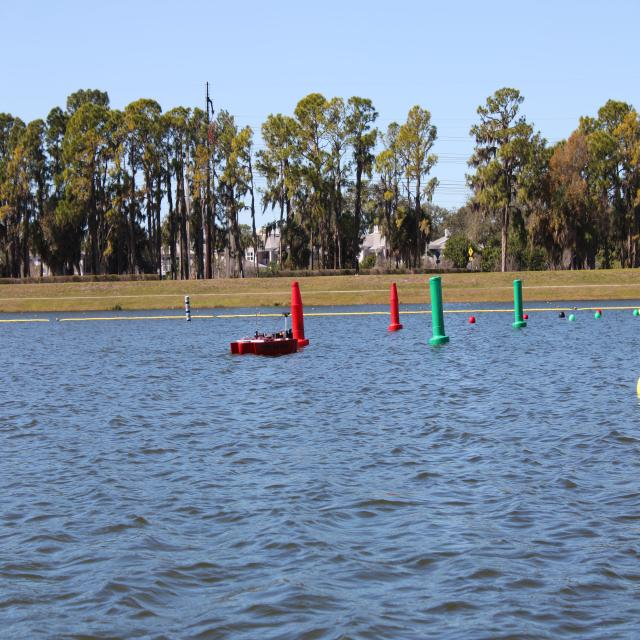green-buoy: (569, 315, 575, 322), (595, 313, 601, 320), (634, 310, 639, 317)
green-column-buoy: (429, 275, 448, 344), (513, 280, 527, 329)
red-buoy: (468, 312, 478, 324)
red-column-buoy: (290, 280, 307, 346), (387, 280, 400, 329)
